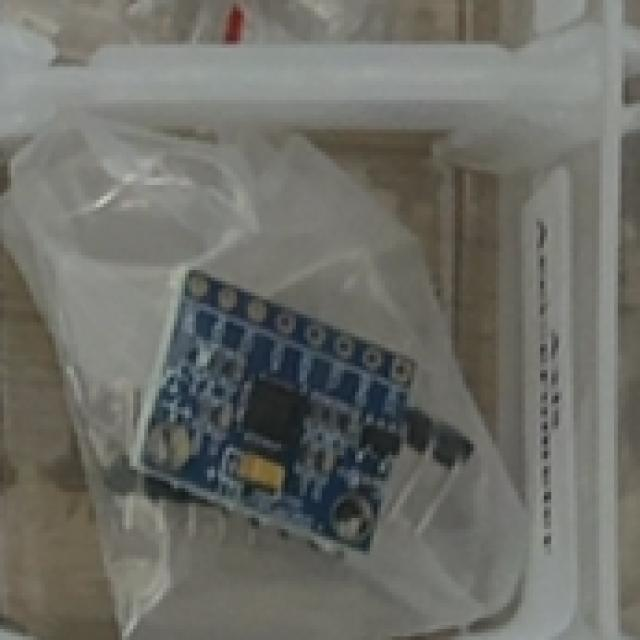Axis Accelerometer: (136, 266, 418, 559)
